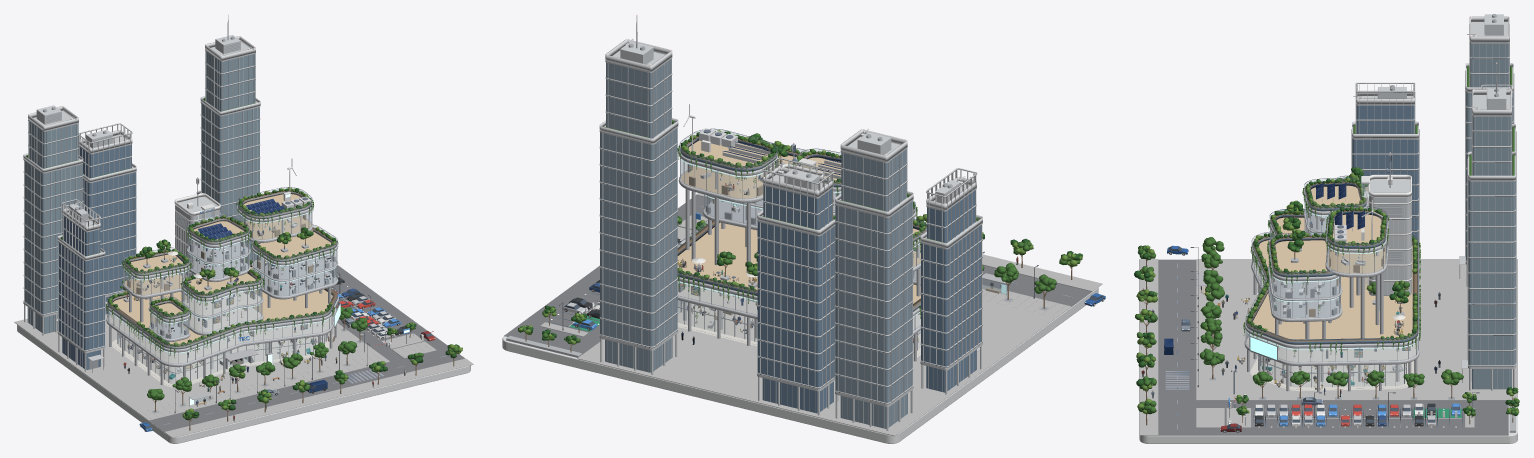
File: smart_building.glb
The picture shows the model from 3 angles, left to right: view 1: azimuth 30°, elevation 25°; view 2: azimuth 150°, elevation 25°; view 3: azimuth 270°, elevation 25°; orthographic projection. The views are drawn at different scales.
Parts seen in each view (by area): view 1: bake-static_site, bake-static_building, glass-static_building-glass, vbake-static_site, vbake-static_building, vbake-static_building-planter, led-static_building-led_cyan, vbake-static_building-frame, vbake-hot-renewable-energy; view 2: bake-static_site, vbake-static_site, bake-static_building, glass-static_building-glass, vbake-static_building, vbake-static_building-planter, bake-hot-renewable-energy; view 3: bake-static_site, bake-static_building, vbake-static_site, glass-static_building-glass, vbake-static_building, vbake-static_building-planter, vbake-static_building-frame, vbake-hot-renewable-energy, led-static_building-led_cyan, vbake-hot-smart-parking.
Boxes of the visible parts, bbox=[...] form: bake-static_site: bbox=[14, 35, 473, 443]; bake-static_building: bbox=[106, 190, 338, 387]; glass-static_building-glass: bbox=[107, 187, 337, 383]; vbake-static_site: bbox=[24, 15, 462, 430]; vbake-static_building: bbox=[106, 187, 338, 382]; vbake-static_building-planter: bbox=[107, 191, 337, 349]; led-static_building-led_cyan: bbox=[109, 211, 336, 353]; vbake-static_building-frame: bbox=[107, 187, 338, 345]; vbake-hot-renewable-energy: bbox=[197, 167, 291, 239]; bake-static_site: bbox=[502, 39, 1102, 443]; vbake-static_site: bbox=[518, 15, 1082, 430]; bake-static_building: bbox=[677, 136, 926, 361]; glass-static_building-glass: bbox=[678, 129, 926, 349]; vbake-static_building: bbox=[677, 130, 926, 350]; vbake-static_building-planter: bbox=[677, 135, 926, 311]; bake-hot-renewable-energy: bbox=[722, 143, 841, 179]; bake-static_site: bbox=[1139, 14, 1517, 443]; bake-static_building: bbox=[1244, 174, 1419, 391]; vbake-static_site: bbox=[1134, 14, 1519, 429]; glass-static_building-glass: bbox=[1245, 176, 1418, 387]; vbake-static_building: bbox=[1243, 167, 1420, 387]; vbake-static_building-planter: bbox=[1246, 181, 1418, 344]; vbake-static_building-frame: bbox=[1245, 175, 1418, 339]; vbake-hot-renewable-energy: bbox=[1316, 183, 1373, 239]; led-static_building-led_cyan: bbox=[1246, 195, 1417, 349]; vbake-hot-smart-parking: bbox=[1228, 394, 1462, 427].
Size of the model in its own units: 92.15 by 75.9 by 81.5.
